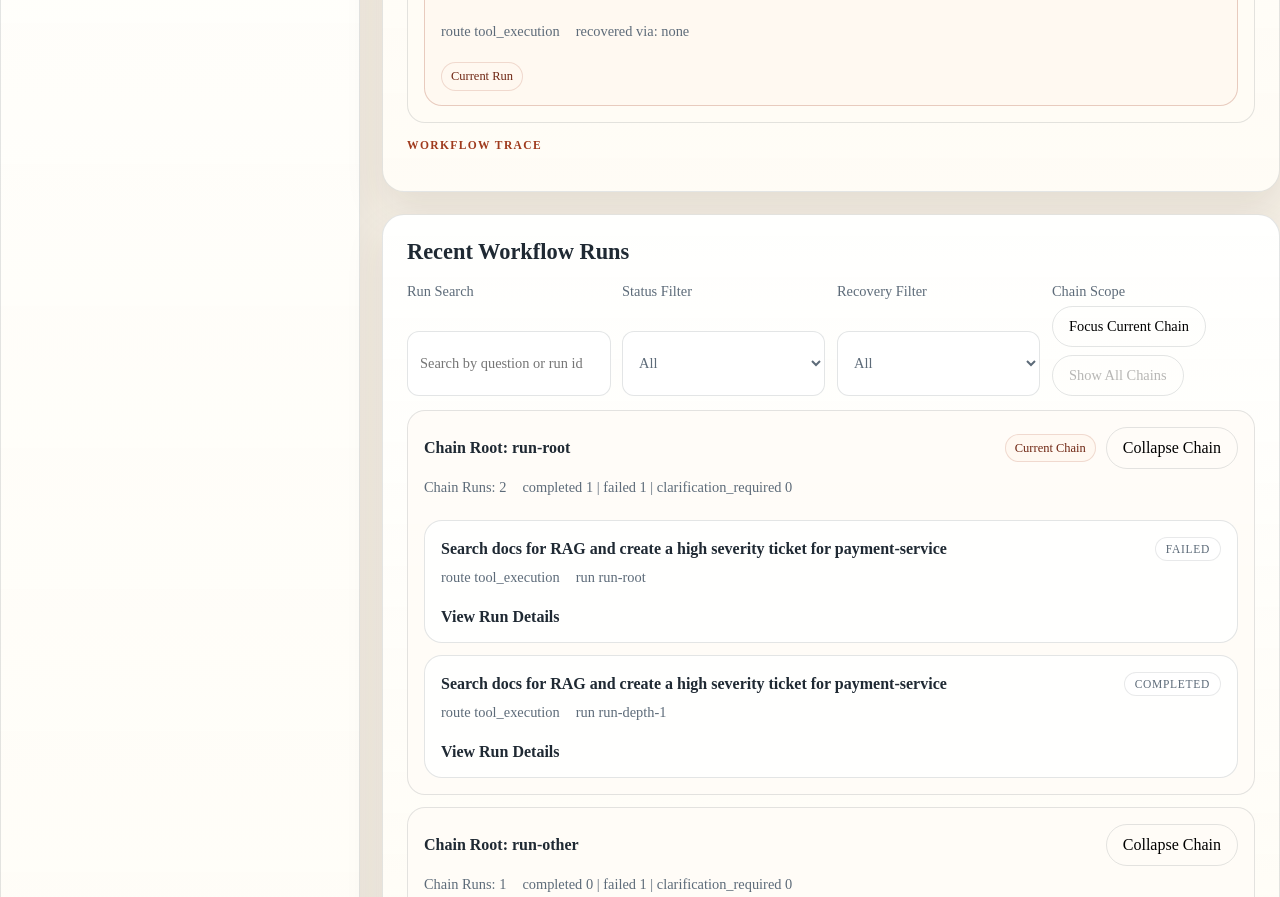
QueryView › groups recent workflow runs by recovery chain and toggles chain visibility
(page scrolled)
Check: the text "Chain Root: run-root" is shown 2 times, box x1=424 y1=439 x2=570 y2=456; x1=424 y1=836 x2=579 y2=853
Check: the text "Current Chain" is shown, box x1=1005 y1=434 x2=1096 y2=462
Step 1. Click the 1st button "Collapse Chain" → click(1172, 448), box x1=1106 y1=427 x2=1238 y2=469
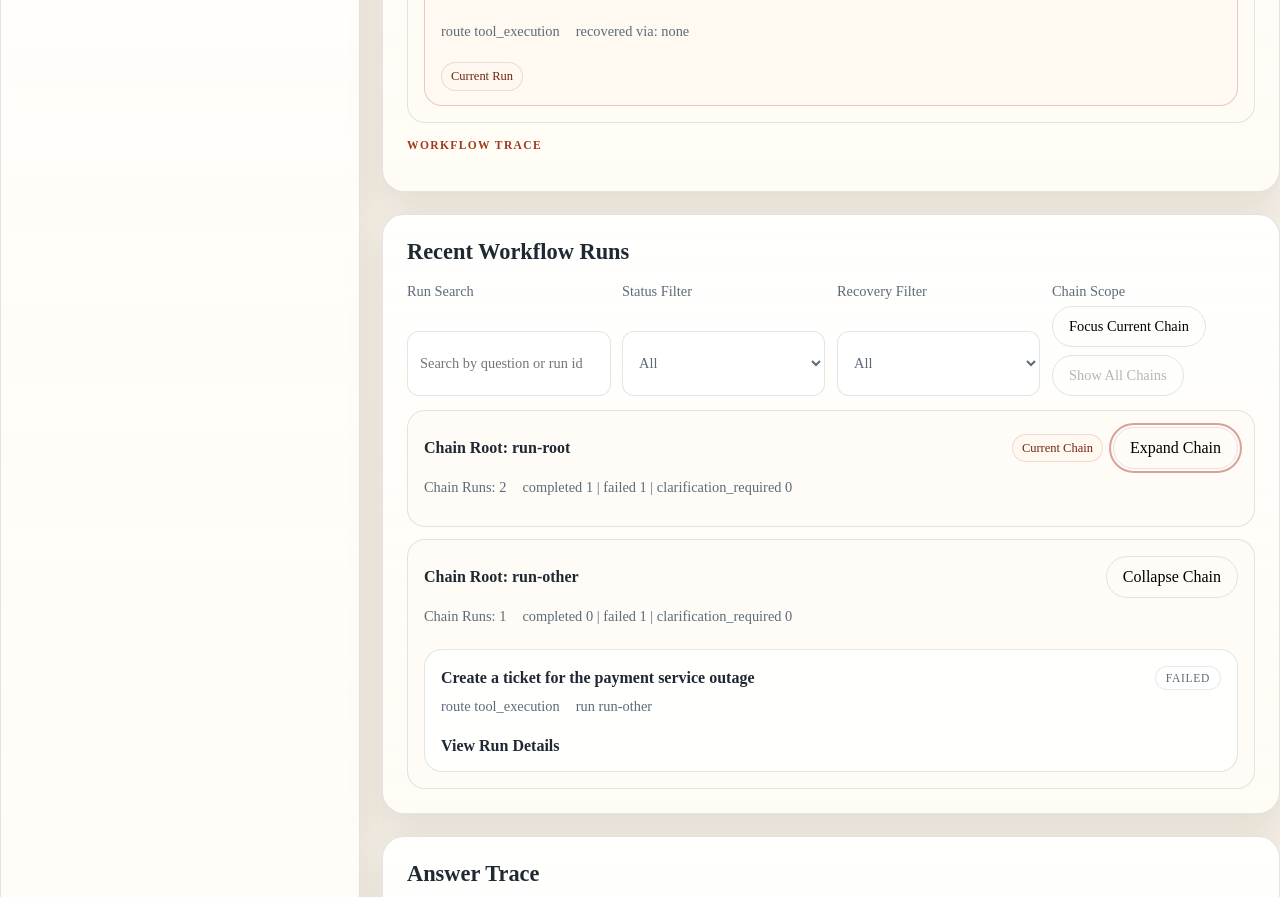
Step 2. Click the button "Expand Chain" → click(1175, 448), box x1=1113 y1=427 x2=1238 y2=469
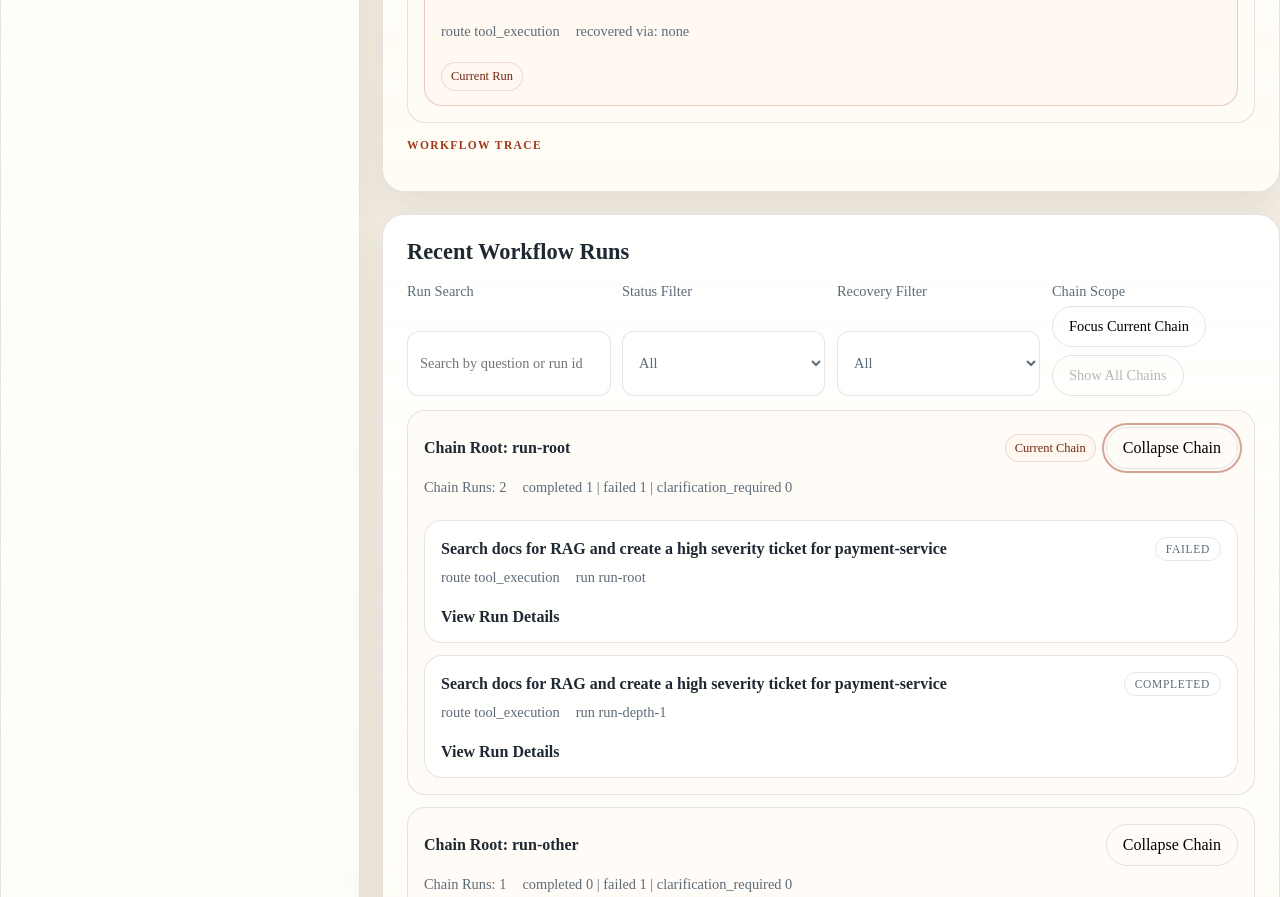
Check: the 1st text "Search docs for RAG and create a high severity ticket for payment-service" is shown, box x1=441 y1=540 x2=947 y2=557
